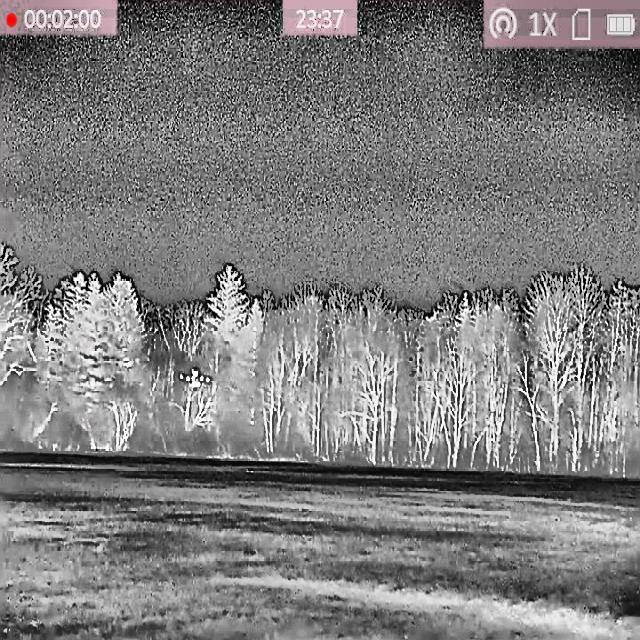drone: (178, 367, 212, 389)
